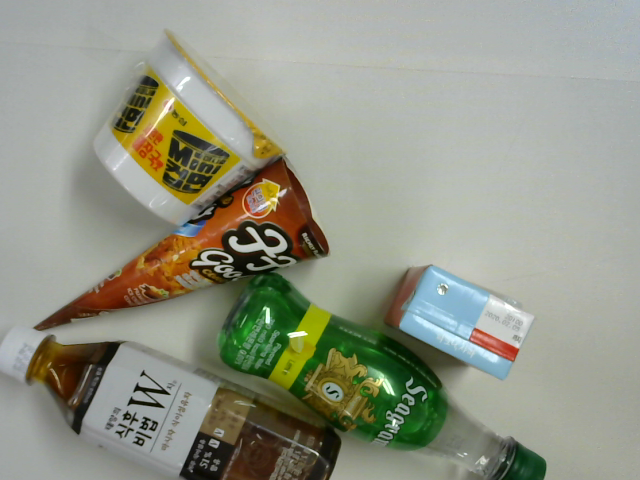GooGoo_Cone_CVS: (33, 157, 329, 327)
Hejangmini: (94, 39, 280, 215)
Picnic_Apple: (382, 261, 537, 381)
Post-meal_recipe_W_tea_500ml: (1, 326, 345, 480)
Seagram_Lemon_Carbonated_Water: (223, 277, 556, 480)
